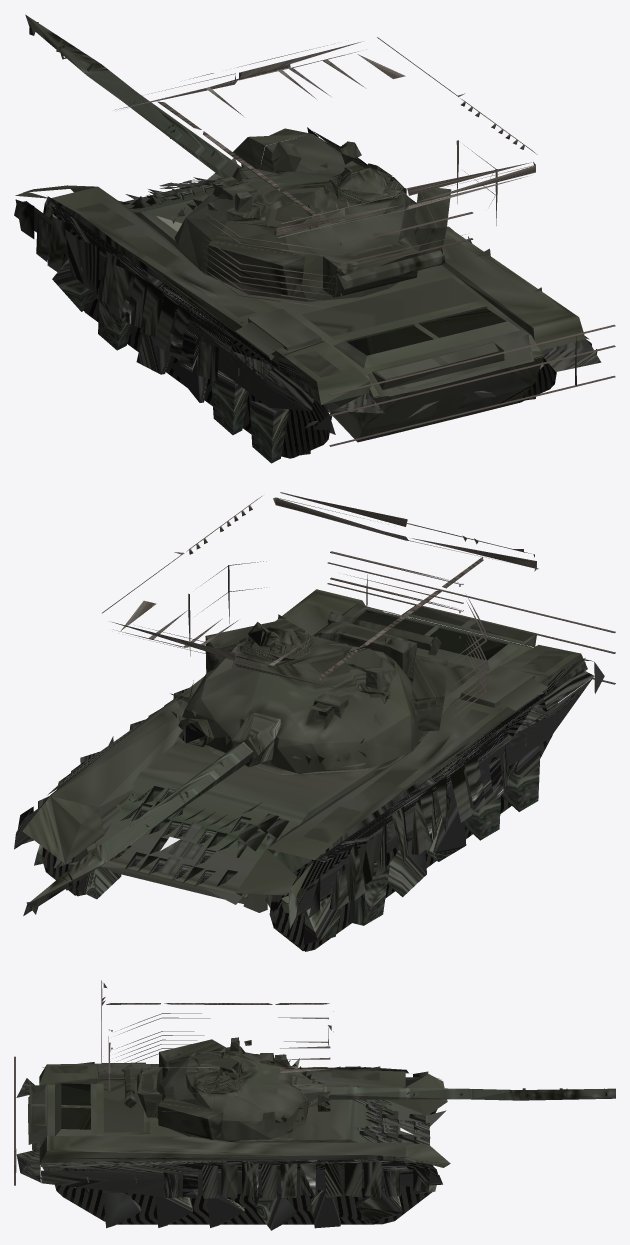
The picture shows the model from 3 angles, top to bottom: view 1: azimuth 30°, elevation 25°; view 2: azimuth 150°, elevation 25°; view 3: azimuth 270°, elevation 25°; orthographic projection. The views are drawn at different scales.
Parts seen in each view (by area): view 1: Object_3, Object_10, Object_4, Object_15, Object_17, Object_5, Object_12; view 2: Object_3, Object_10, Object_4, Object_17, Object_15, Object_5, Object_12; view 3: Object_3, Object_4, Object_10, Object_17, Object_12, Object_5, Object_15.
Part boxes in pixels (bbox=[...]): Object_3: bbox=[15, 128, 585, 442]; Object_10: bbox=[171, 141, 451, 301]; Object_4: bbox=[14, 127, 601, 430]; Object_15: bbox=[115, 37, 615, 446]; Object_17: bbox=[44, 206, 543, 463]; Object_5: bbox=[25, 14, 277, 186]; Object_12: bbox=[43, 203, 556, 458]; Object_3: bbox=[22, 589, 587, 912]; Object_10: bbox=[170, 611, 447, 773]; Object_4: bbox=[14, 606, 604, 918]; Object_17: bbox=[34, 746, 540, 944]; Object_15: bbox=[102, 492, 615, 745]; Object_5: bbox=[23, 713, 280, 915]; Object_12: bbox=[42, 700, 557, 951]; Object_3: bbox=[28, 1062, 450, 1170]; Object_4: bbox=[16, 1062, 442, 1198]; Object_10: bbox=[121, 1037, 330, 1141]; Object_17: bbox=[74, 1161, 436, 1230]; Object_12: bbox=[55, 1109, 437, 1224]; Object_5: bbox=[292, 1076, 615, 1107]; Object_15: bbox=[14, 980, 333, 1185].
Bounding box in the file's own units: 4.05 × 3.09 × 10.02.
Materials: 10 (9 with a texture image).
